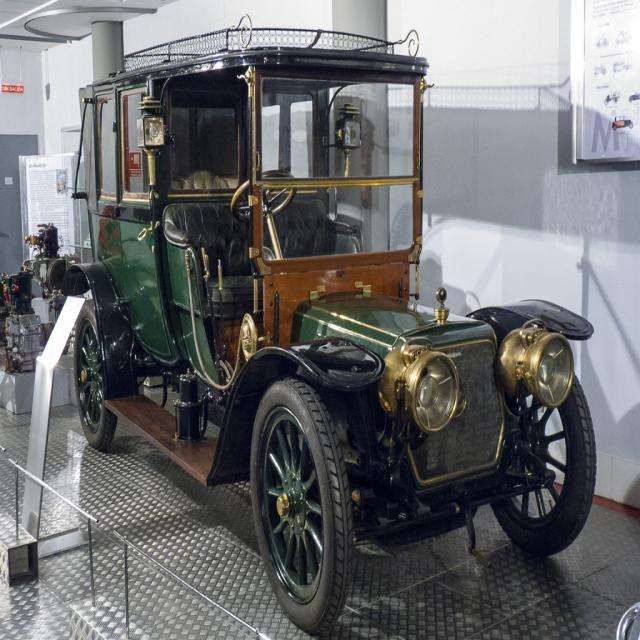car: (46, 26, 597, 638)
